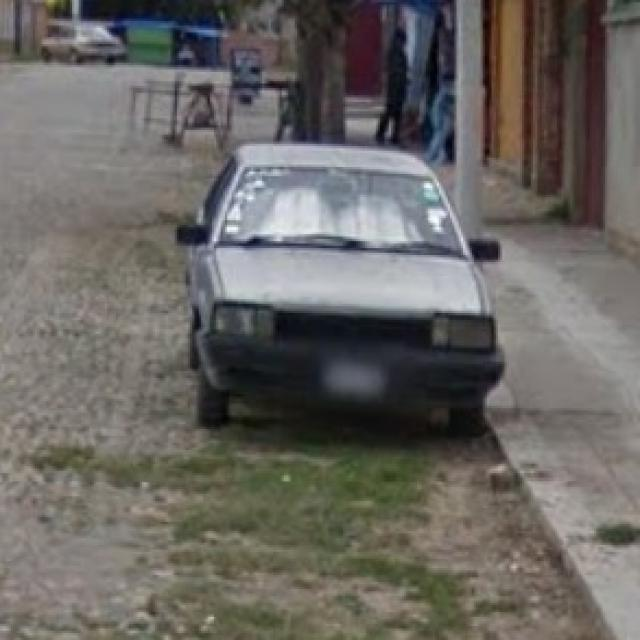car: (176, 141, 506, 432), (40, 19, 128, 64)
